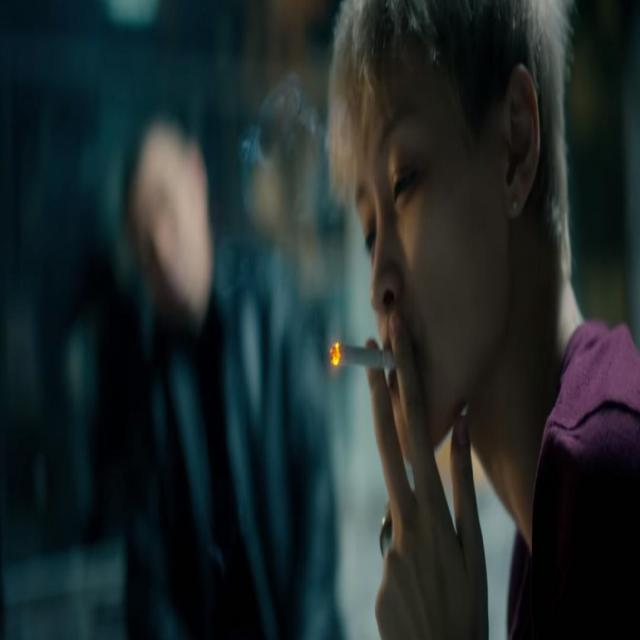smoke: (328, 339, 398, 377)
